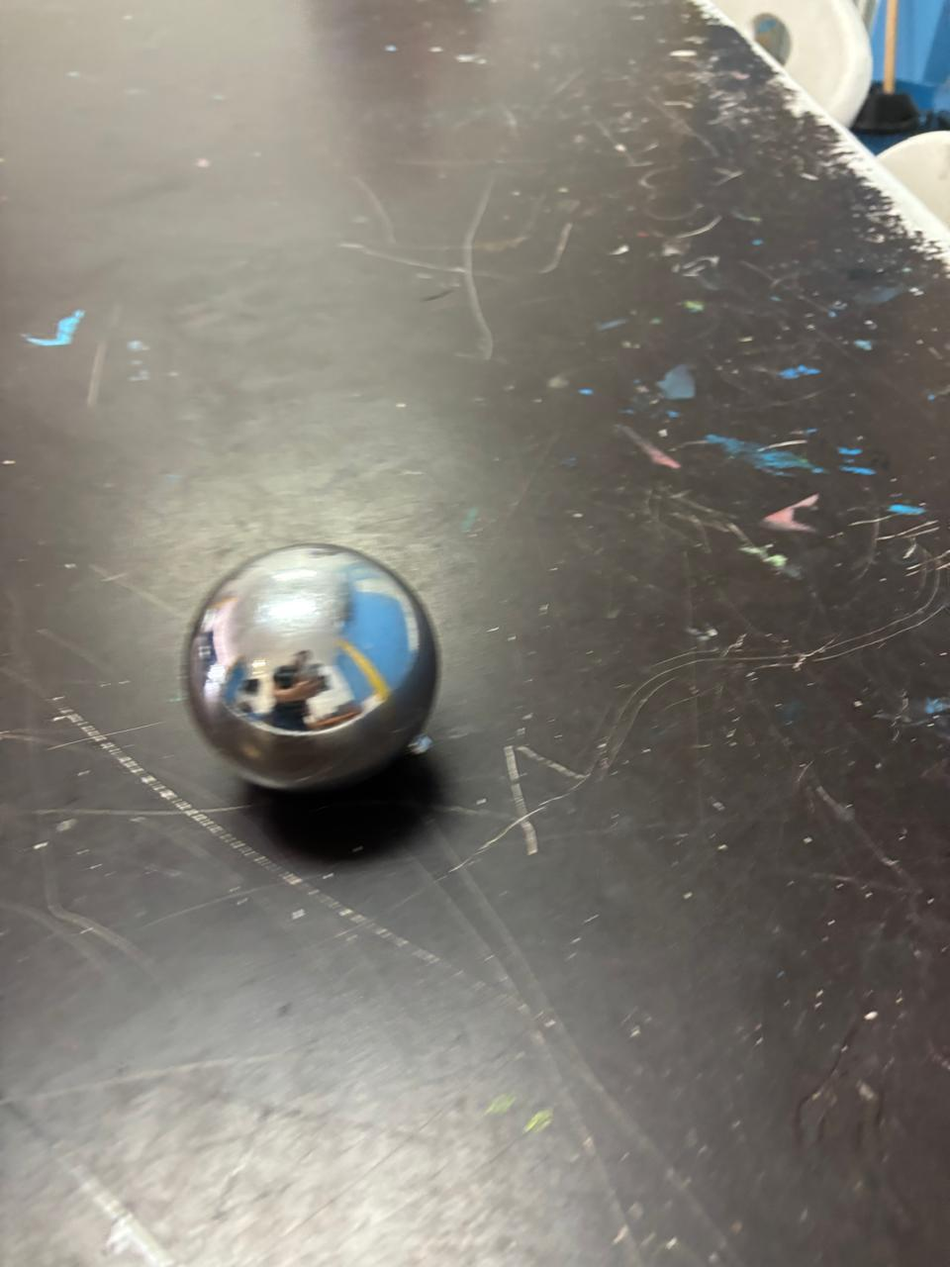steelball: (177, 538, 441, 794)
